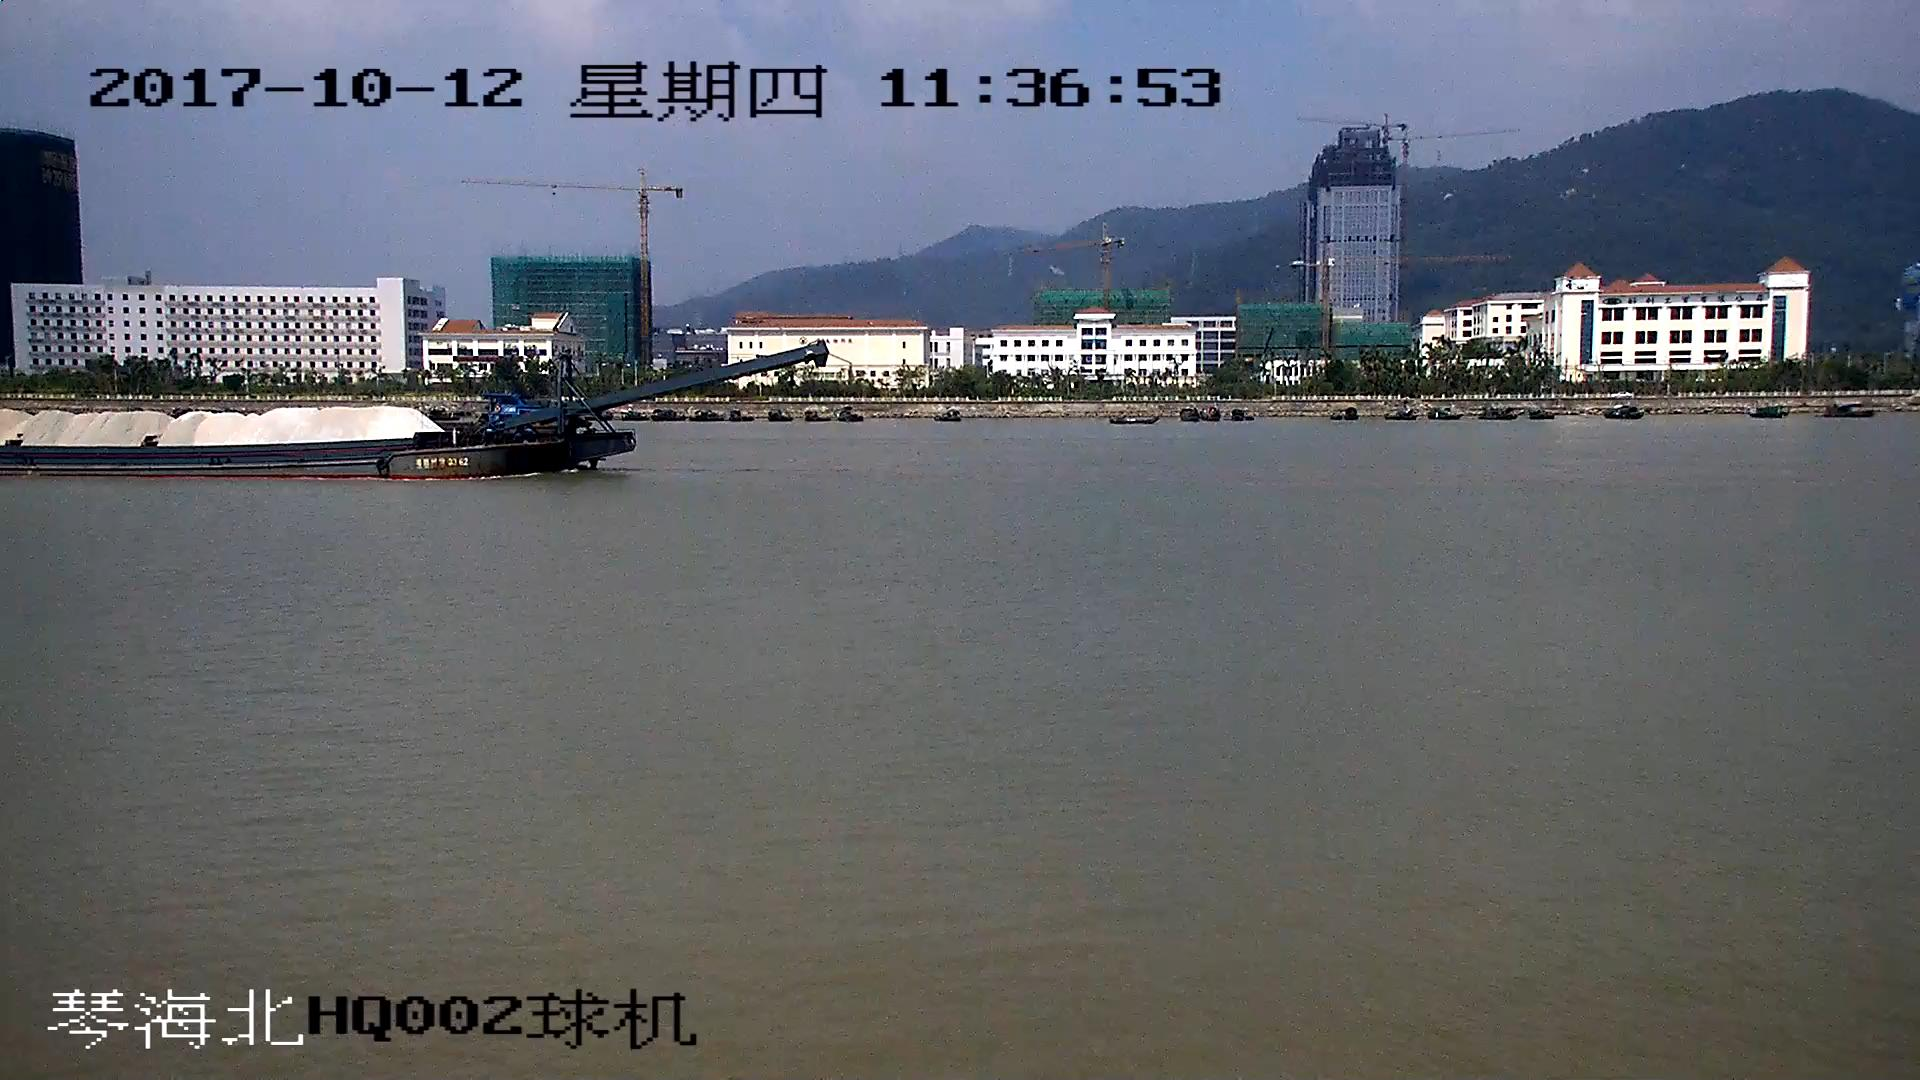ore carrier: (1, 348, 821, 478)
